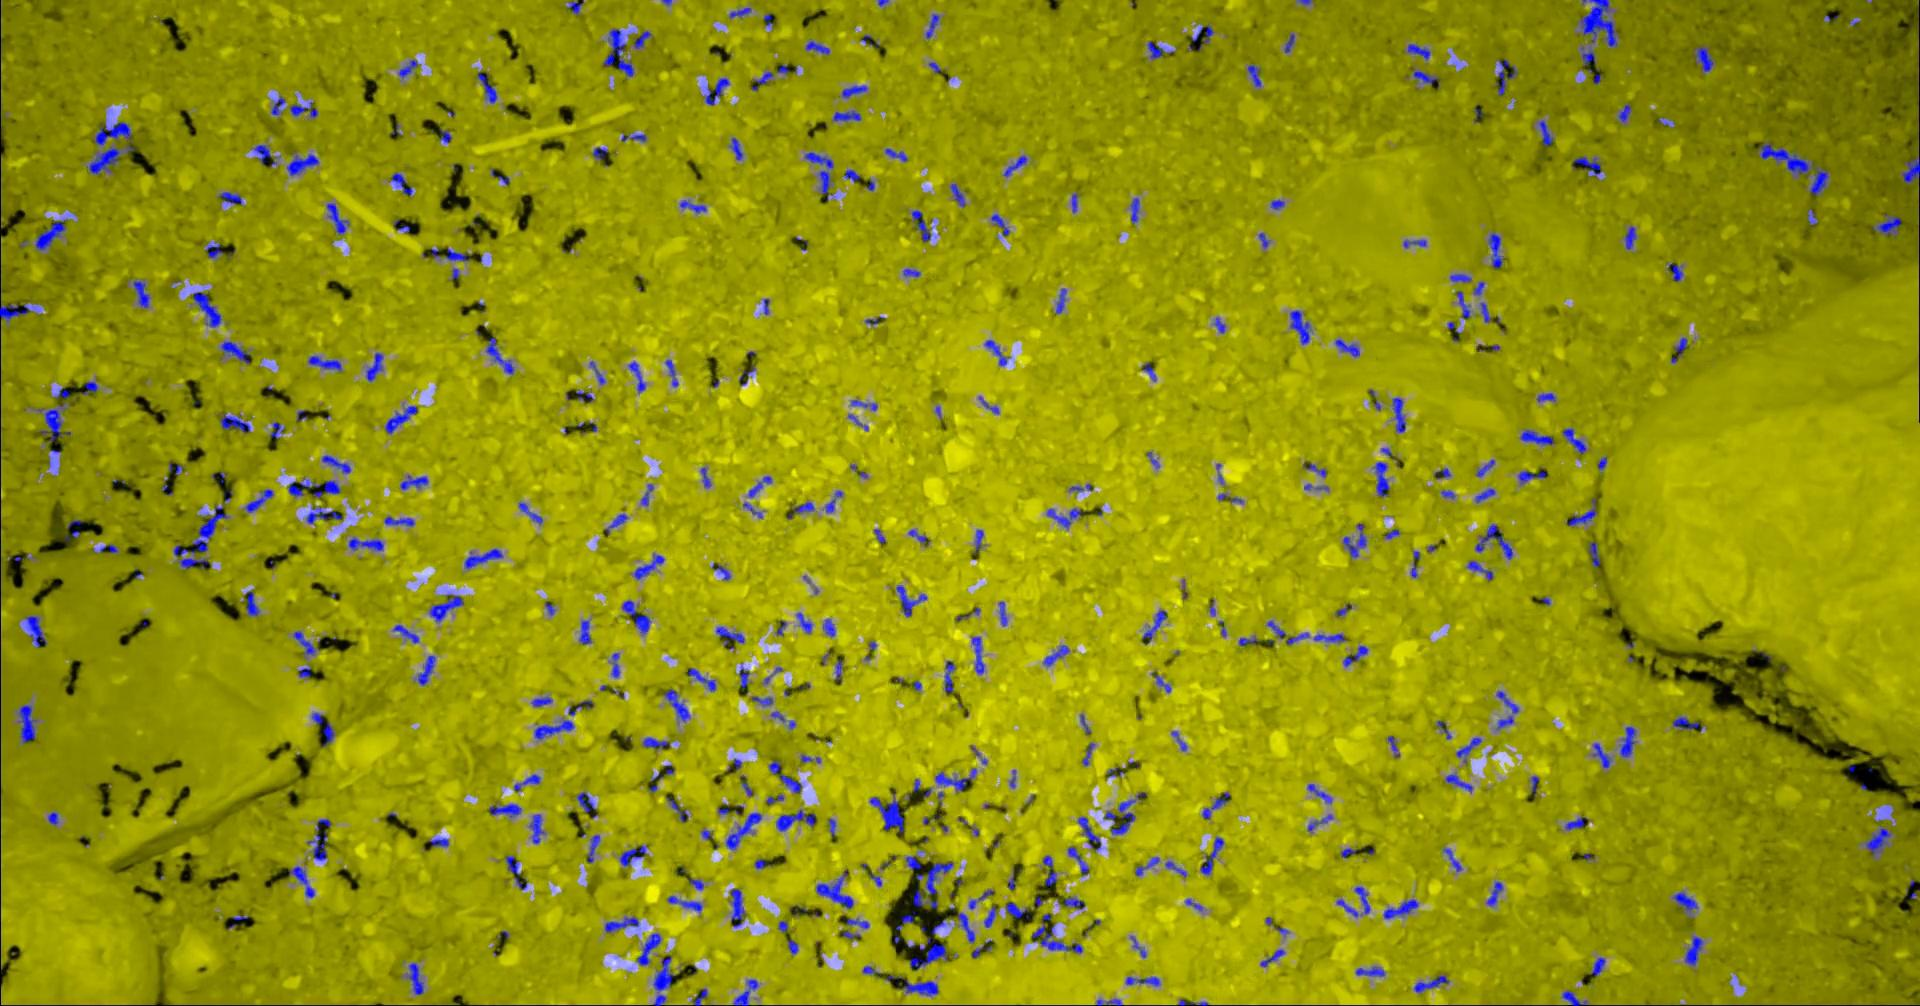ant: (1759, 141, 1827, 196), (173, 506, 229, 556), (1031, 913, 1082, 951), (1580, 0, 1617, 46), (603, 28, 632, 76), (804, 151, 833, 199), (869, 796, 905, 833), (815, 871, 852, 908), (725, 812, 761, 848), (1476, 525, 1512, 559), (916, 861, 952, 894), (651, 955, 676, 1005), (39, 403, 70, 441), (909, 937, 947, 968), (1103, 799, 1135, 835), (768, 760, 801, 793), (485, 337, 514, 373), (288, 478, 340, 498), (192, 291, 221, 326), (306, 818, 330, 860), (1267, 620, 1308, 644), (895, 584, 926, 616), (621, 600, 650, 633), (428, 594, 463, 621), (36, 218, 65, 250), (383, 405, 417, 433), (93, 121, 131, 145), (935, 768, 977, 790), (1495, 690, 1517, 729), (86, 147, 119, 174), (663, 688, 690, 721), (775, 809, 815, 831), (1566, 497, 1596, 525), (1200, 837, 1223, 874), (287, 866, 314, 897), (632, 554, 664, 579), (1142, 610, 1167, 641), (533, 719, 573, 739), (1495, 58, 1516, 95), (1343, 523, 1366, 558), (1077, 815, 1100, 850), (504, 855, 527, 889), (463, 547, 502, 568), (636, 934, 660, 965), (311, 713, 334, 746), (17, 704, 36, 743), (1289, 310, 1310, 344), (286, 152, 317, 175), (703, 77, 729, 105), (1201, 793, 1229, 818), (1865, 826, 1890, 855), (326, 203, 349, 234), (24, 615, 46, 647), (1046, 508, 1082, 527), (1383, 899, 1418, 918), (244, 488, 272, 512), (687, 667, 715, 691), (220, 340, 249, 363), (618, 843, 648, 866), (305, 506, 342, 523), (984, 339, 1010, 365), (218, 413, 250, 433), (733, 979, 758, 1005), (1457, 735, 1481, 762), (476, 72, 497, 103), (1571, 156, 1601, 177), (293, 630, 319, 654), (1562, 427, 1585, 453), (910, 210, 930, 241), (1872, 213, 1900, 235), (1067, 846, 1088, 874), (1487, 232, 1503, 268), (1413, 976, 1449, 992), (897, 981, 938, 995), (730, 888, 745, 926), (665, 895, 702, 911), (715, 626, 744, 645), (417, 655, 436, 685), (518, 502, 542, 525), (1002, 155, 1027, 177), (1043, 644, 1068, 666), (665, 796, 687, 822), (309, 354, 342, 371), (604, 916, 637, 932), (406, 962, 423, 995), (0, 304, 30, 321), (1467, 560, 1493, 580), (1684, 935, 1702, 965), (430, 246, 469, 260), (629, 361, 645, 392), (1374, 461, 1389, 495), (390, 171, 411, 196), (364, 352, 382, 381), (321, 455, 350, 473), (1693, 46, 1713, 71), (1305, 782, 1331, 803), (1445, 774, 1472, 793), (1520, 429, 1553, 445), (957, 912, 974, 942), (348, 536, 383, 550), (748, 475, 771, 497), (1343, 645, 1368, 666), (1672, 892, 1697, 912), (392, 624, 418, 643), (1134, 856, 1159, 875), (968, 889, 993, 908), (1619, 727, 1636, 756), (1390, 398, 1404, 432), (787, 500, 814, 518), (604, 513, 627, 533), (132, 279, 149, 307), (1672, 716, 1705, 730), (488, 803, 521, 817), (1592, 743, 1611, 767), (1443, 847, 1462, 871), (513, 774, 538, 791), (1258, 949, 1284, 967), (1043, 855, 1057, 887), (1902, 156, 1919, 183), (397, 58, 420, 77), (750, 71, 773, 90), (1004, 901, 1029, 918), (290, 102, 317, 117), (1455, 291, 1470, 319), (1517, 467, 1545, 483), (399, 474, 427, 489), (971, 636, 983, 673), (1413, 70, 1439, 86), (568, 699, 593, 715), (770, 711, 795, 728), (1307, 814, 1332, 831), (895, 909, 916, 930), (1191, 24, 1213, 43), (990, 213, 1010, 235), (530, 814, 543, 843), (1354, 887, 1369, 913), (1335, 339, 1359, 356), (1486, 882, 1502, 906), (1538, 119, 1553, 145), (577, 791, 596, 812), (824, 490, 842, 512), (907, 528, 930, 545), (679, 199, 706, 213), (805, 39, 829, 55), (589, 359, 604, 384), (1562, 989, 1586, 1005), (178, 558, 210, 569), (943, 661, 955, 692), (738, 365, 756, 385), (1164, 860, 1186, 876), (1336, 899, 1357, 916), (924, 13, 938, 38), (587, 835, 599, 862), (1303, 462, 1326, 478), (1125, 976, 1159, 986), (632, 30, 651, 48), (253, 144, 270, 163), (1476, 459, 1495, 476), (711, 561, 730, 579), (245, 591, 259, 615), (1407, 43, 1429, 58), (1247, 64, 1261, 86), (950, 183, 964, 206), (218, 191, 241, 205), (1564, 815, 1587, 829), (1145, 41, 1163, 58), (971, 940, 990, 956), (1580, 44, 1595, 65), (383, 516, 414, 526), (796, 612, 811, 633), (578, 620, 590, 644), (665, 359, 677, 386), (851, 399, 877, 410), (643, 737, 669, 748), (204, 241, 222, 258), (841, 85, 866, 97), (884, 149, 907, 161), (640, 483, 653, 506), (1589, 541, 1600, 567), (983, 904, 996, 927), (1590, 956, 1605, 976), (270, 95, 284, 116), (1474, 488, 1495, 502), (1313, 633, 1345, 641), (729, 137, 742, 159), (1081, 743, 1093, 765), (1063, 895, 1084, 908), (1667, 263, 1683, 281), (269, 420, 284, 438), (1154, 674, 1170, 692), (1672, 337, 1686, 356), (1142, 362, 1156, 381), (1624, 226, 1636, 249), (738, 666, 749, 688), (1355, 967, 1384, 976), (1217, 493, 1242, 503), (832, 111, 860, 119), (822, 619, 836, 636), (1055, 288, 1065, 312), (844, 918, 869, 929), (1130, 197, 1139, 224), (566, 0, 582, 15), (1587, 67, 1601, 84), (1617, 104, 1630, 121), (693, 988, 707, 1005), (575, 389, 593, 401), (1410, 551, 1418, 577), (998, 601, 1007, 626), (531, 696, 552, 706), (1283, 33, 1294, 52), (700, 467, 711, 486), (974, 528, 983, 553), (1481, 302, 1491, 323), (621, 133, 646, 141), (592, 147, 607, 160), (843, 169, 858, 182), (611, 652, 618, 677), (905, 856, 921, 869), (1177, 998, 1208, 1005), (729, 8, 750, 17), (1449, 273, 1470, 282), (750, 696, 772, 705), (912, 889, 923, 906), (428, 837, 448, 846), (1340, 847, 1357, 857), (83, 381, 97, 394), (168, 461, 182, 474), (1403, 239, 1426, 246), (1537, 392, 1556, 401), (1238, 636, 1257, 645), (1096, 998, 1123, 1005), (1434, 467, 1450, 478), (47, 810, 58, 824), (902, 268, 919, 277), (754, 857, 770, 868), (787, 939, 797, 954), (439, 130, 451, 142), (1270, 199, 1284, 210), (836, 658, 842, 680), (298, 666, 310, 677), (1917, 72, 1919, 122)
